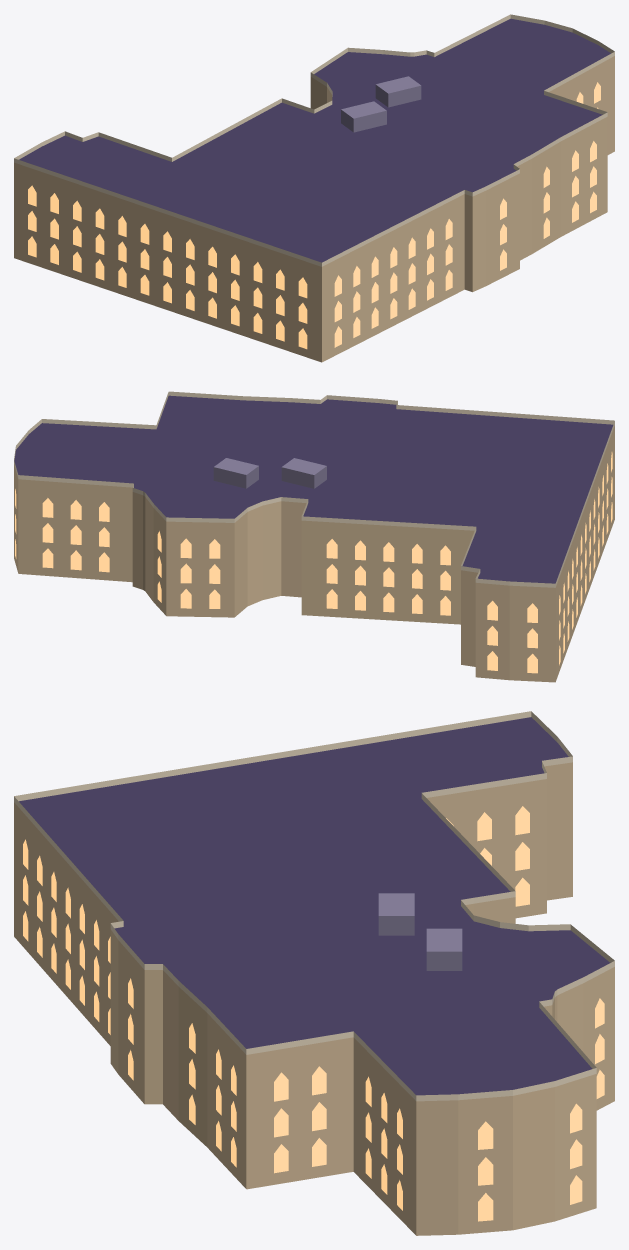
Rendered from b-089-western-science-centre.glb.
The picture shows the model from 3 angles, top to bottom: view 1: azimuth 30°, elevation 25°; view 2: azimuth 150°, elevation 25°; view 3: azimuth 270°, elevation 25°; orthographic projection. The views are drawn at different scales.
Visible parts, largest first — view 1: campus/b-089-western-science-centre-0; view 2: campus/b-089-western-science-centre-0; view 3: campus/b-089-western-science-centre-0.
Boxes of the visible parts, bbox=[...] form: campus/b-089-western-science-centre-0: bbox=[14, 14, 614, 362]; campus/b-089-western-science-centre-0: bbox=[14, 391, 614, 682]; campus/b-089-western-science-centre-0: bbox=[14, 711, 614, 1235].
Size of the model in its own units: 75.98 by 14.2 by 50.22.
